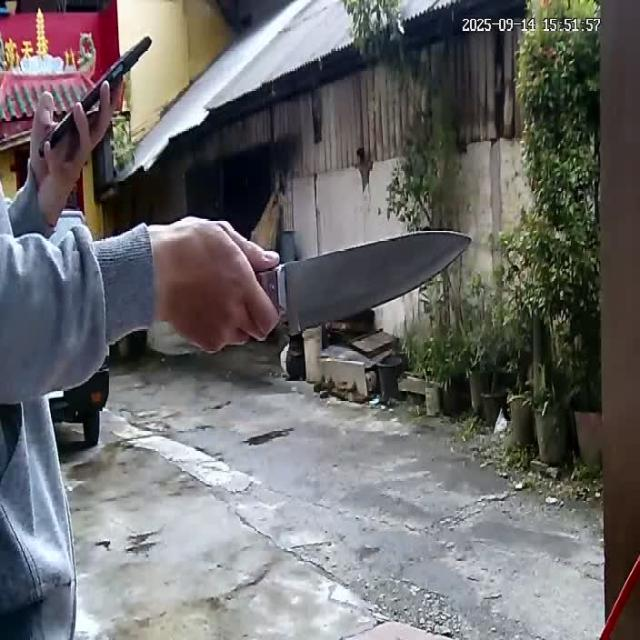senjata_tajam: (277, 225, 473, 337)
